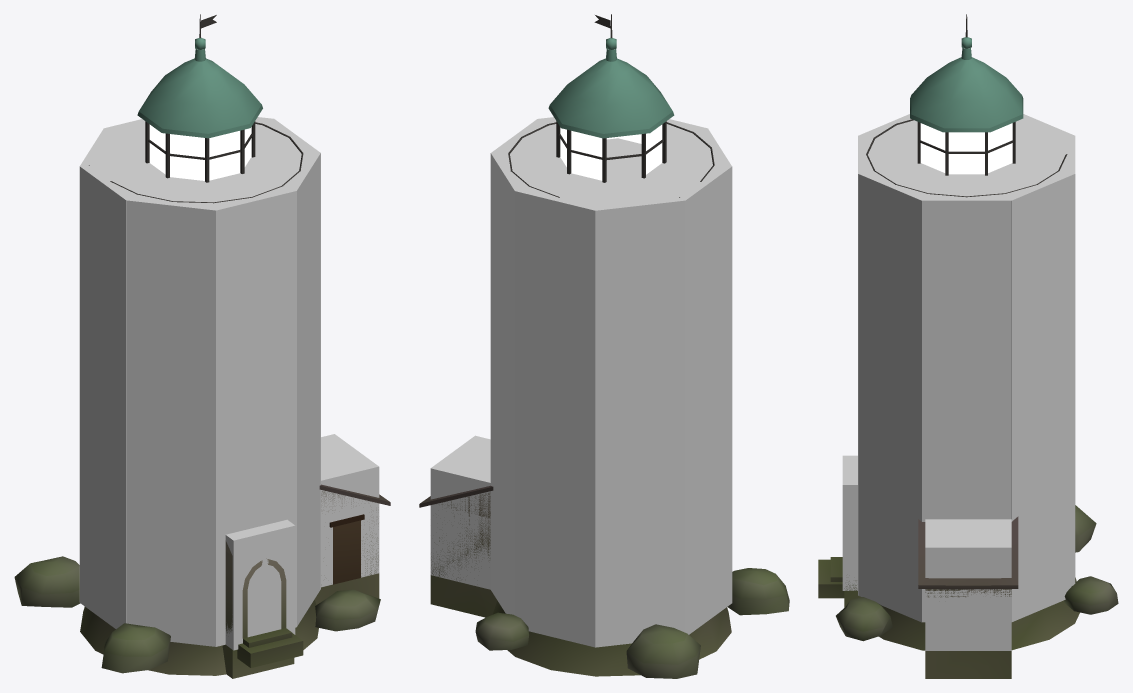
File: lighthouse.glb
The picture shows the model from 3 angles, left to right: view 1: azimuth 30°, elevation 25°; view 2: azimuth 150°, elevation 25°; view 3: azimuth 270°, elevation 25°; orthographic projection. The views are drawn at different scales.
Visible parts, largest first — view 1: COL_tower_2, COL_tower_3, lighthouse, COL_tower_1, COL_tower_4, COL_door, COL_annex; view 2: COL_tower_4, COL_tower_3, lighthouse, COL_tower_1, COL_tower_2, COL_annex; view 3: COL_tower_1, COL_tower_4, COL_tower_2, lighthouse, COL_annex, COL_tower_3, COL_door.
Boxes of the visible parts, <box> form: COL_tower_2: <box>126,117,273,646</box>; COL_tower_3: <box>104,119,296,646</box>; lighthouse: <box>14,14,390,678</box>; COL_tower_1: <box>80,119,320,628</box>; COL_tower_4: <box>79,128,320,626</box>; COL_door: <box>225,519,295,650</box>; COL_annex: <box>321,434,379,587</box>; COL_tower_4: <box>538,117,685,647</box>; COL_tower_3: <box>514,119,706,647</box>; lighthouse: <box>419,14,789,678</box>; COL_tower_1: <box>490,119,731,634</box>; COL_tower_2: <box>491,128,732,614</box>; COL_annex: <box>430,435,490,589</box>; COL_tower_1: <box>921,163,1011,622</box>; COL_tower_4: <box>858,114,1074,622</box>; COL_tower_2: <box>858,114,1074,621</box>; lighthouse: <box>818,14,1118,678</box>; COL_annex: <box>925,519,1011,650</box>; COL_tower_3: <box>858,136,1075,595</box>; COL_door: <box>842,455,857,590</box>.
Bounding box in the file's own units: 9.81 × 18.9 × 8.7.
